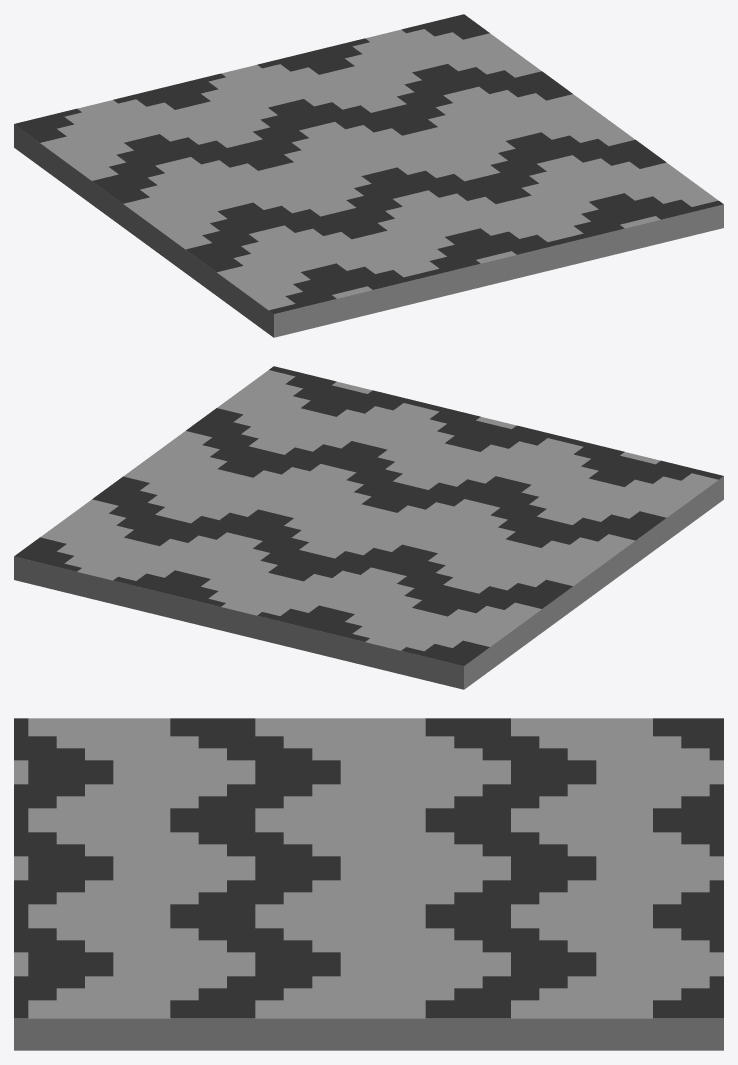
The model's file is cbgt_free_v0.4.0_ground_pavement_mixed_02_v1.1.0.glb.
3 views of the same model, one above another, from view 1: azimuth 30°, elevation 25°; view 2: azimuth 150°, elevation 25°; view 3: azimuth 270°, elevation 25° (orthographic). The views are drawn at different scales.
Visible parts, largest first — view 1: cbgt_free_v0.4.0_ground_pavement_mixed_v1.1.0; view 2: cbgt_free_v0.4.0_ground_pavement_mixed_v1.1.0; view 3: cbgt_free_v0.4.0_ground_pavement_mixed_v1.1.0.
Boxes of the visible parts, x1=… form: cbgt_free_v0.4.0_ground_pavement_mixed_v1.1.0: x1=14, y1=14, x2=723, y2=337; cbgt_free_v0.4.0_ground_pavement_mixed_v1.1.0: x1=14, y1=366, x2=723, y2=689; cbgt_free_v0.4.0_ground_pavement_mixed_v1.1.0: x1=14, y1=718, x2=723, y2=1050.
Size of the model in its own units: 10 by 0.502 by 10.
1 material, 1 textured.
